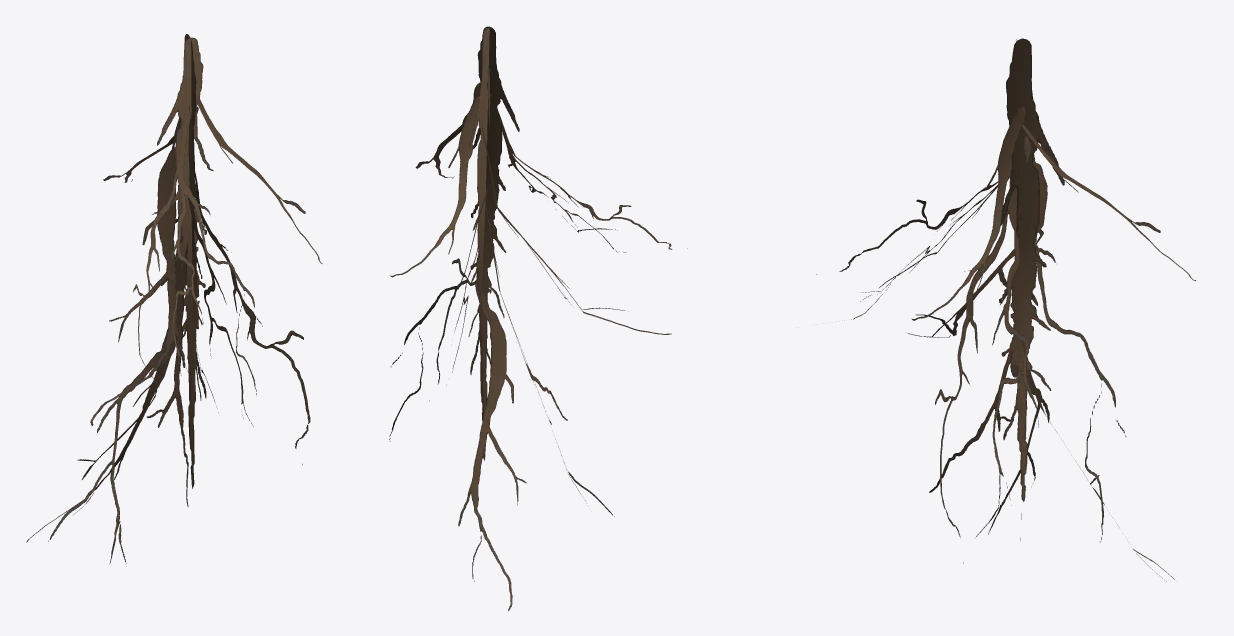
3 views of the same model, side by side, from view 1: azimuth 30°, elevation 25°; view 2: azimuth 150°, elevation 25°; view 3: azimuth 270°, elevation 25° (orthographic). The views are drawn at different scales.
Visible parts, largest first — view 1: body0_model0_lod0_mesh0; view 2: body0_model0_lod0_mesh0; view 3: body0_model0_lod0_mesh0.
Part boxes in pixels (box(x1,y1,x2,y2)): body0_model0_lod0_mesh0: box(26, 34, 322, 563); body0_model0_lod0_mesh0: box(389, 26, 687, 610); body0_model0_lod0_mesh0: box(816, 38, 1195, 581).
Size of the model in its own units: 144 by 266 by 187.
1 material, 1 textured.
